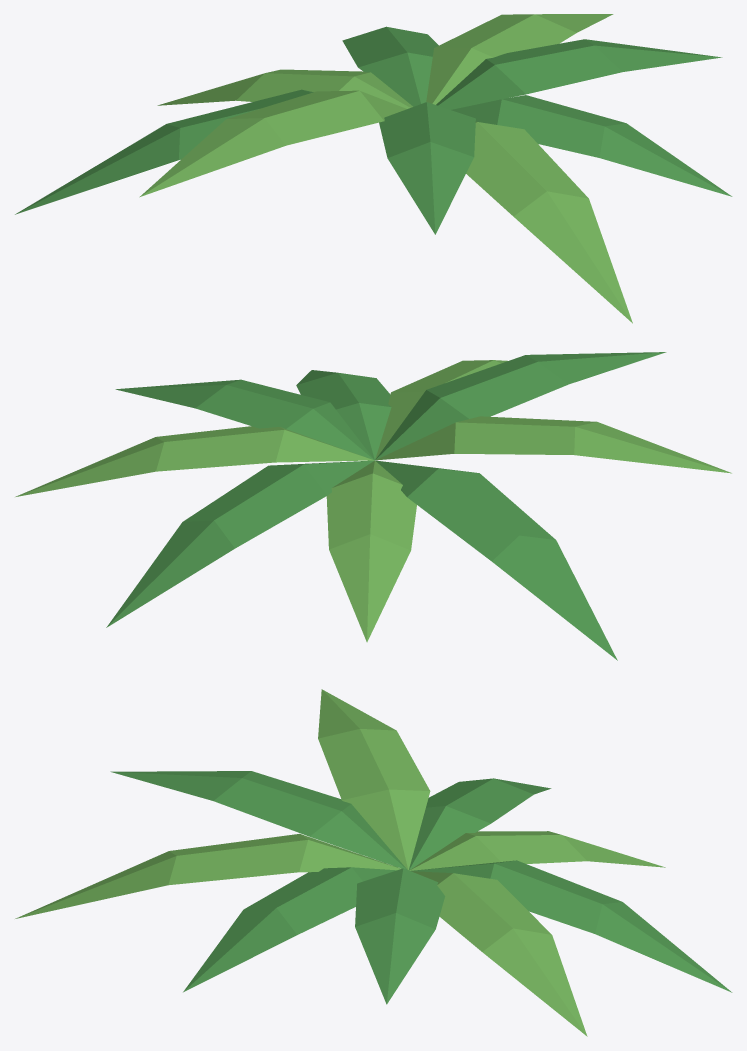
Rendered from bush_1.glb.
3 views of the same model, one above another, from view 1: azimuth 30°, elevation 25°; view 2: azimuth 150°, elevation 25°; view 3: azimuth 270°, elevation 25° (orthographic). The views are drawn at different scales.
Parts seen in each view (by area): view 1: leaf; view 2: leaf; view 3: leaf.
Part boxes in pixels (x1,y1,x2,y2): leaf: (15, 14, 732, 323); leaf: (15, 352, 731, 660); leaf: (15, 689, 732, 1036).
Size of the model in its own units: 2.06 by 0.44 by 2.21.
